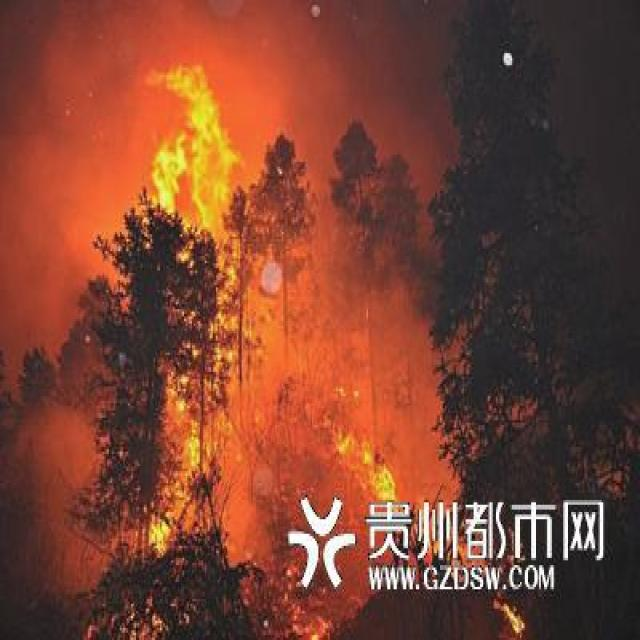fire: (122, 50, 256, 240), (144, 267, 230, 558), (320, 373, 410, 495)
